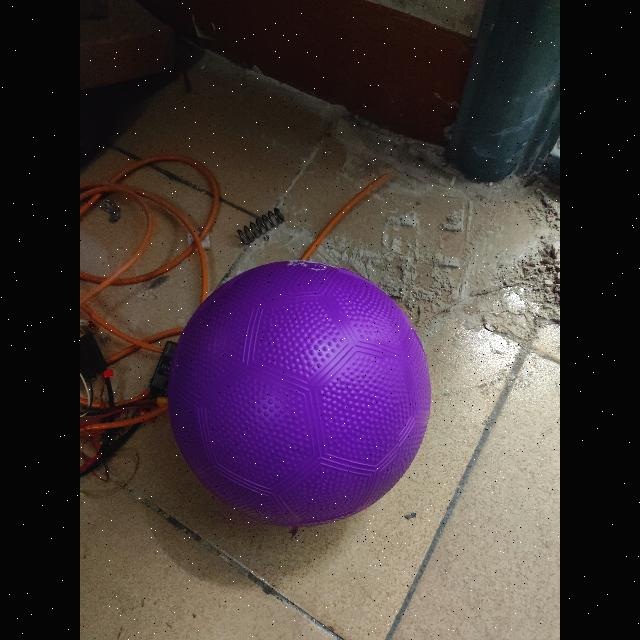P: (167, 260, 433, 526)
